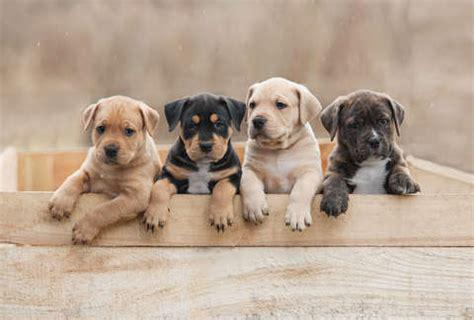cat: (140, 93, 246, 228)
dog: (48, 95, 160, 244), (321, 90, 418, 215), (240, 78, 320, 226)
